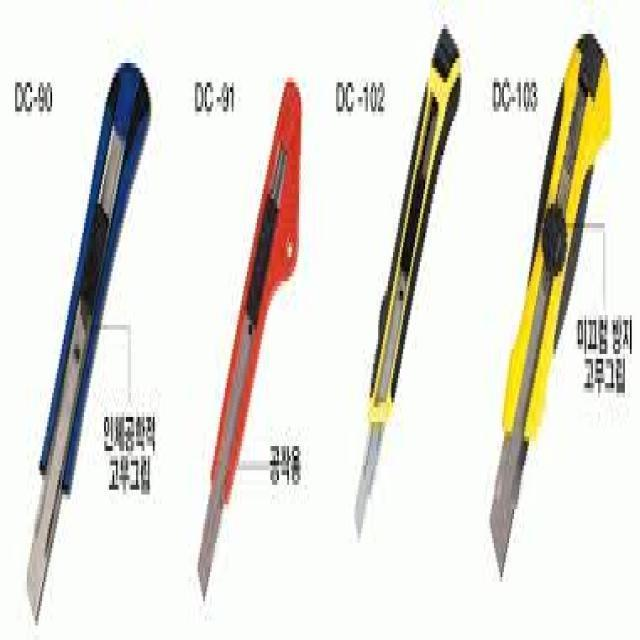cutter: (18, 51, 164, 630), (472, 31, 612, 604), (194, 63, 314, 620), (348, 13, 464, 544)
